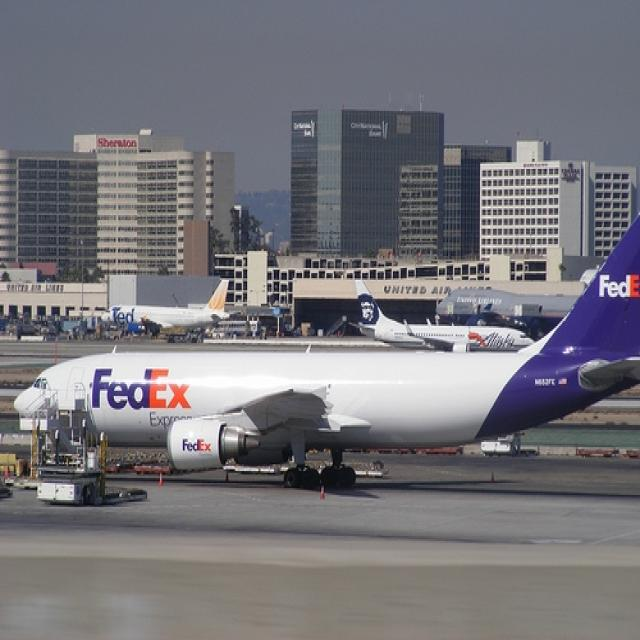fedex: (91, 370, 196, 412), (596, 271, 640, 305), (180, 430, 214, 464)
